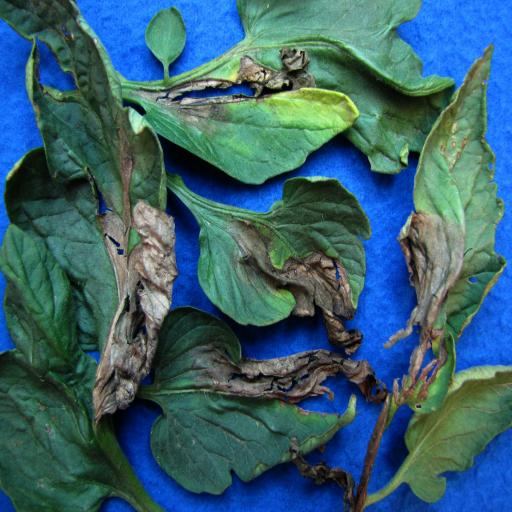Late Blight: (6, 7, 180, 379), (120, 302, 375, 490), (388, 40, 508, 394), (118, 13, 348, 181), (176, 173, 377, 326)
